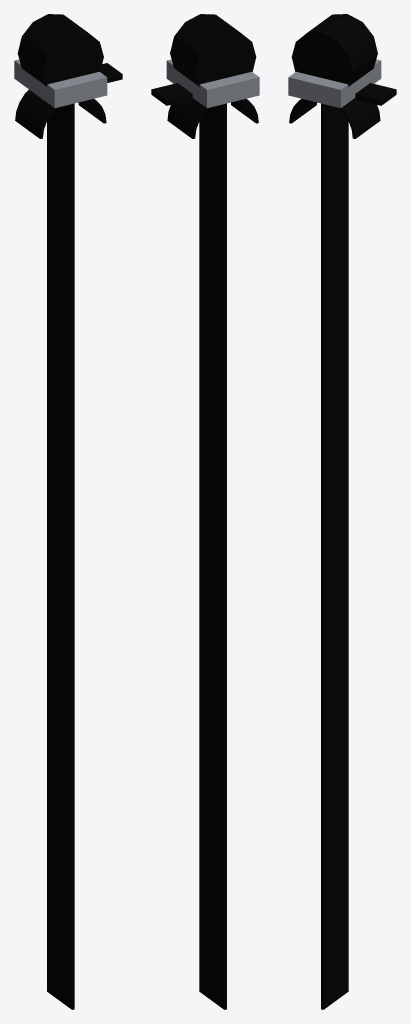
The model's file is PAN_HoldDownStrap.fbx.
The picture shows the model from 3 angles, left to right: view 1: azimuth 30°, elevation 25°; view 2: azimuth 210°, elevation 25°; view 3: azimuth 330°, elevation 25°; orthographic projection.
Parts seen in each view (by area): view 1: HoldDown_Leg, HoldDown_Removed, HoldDown_BuckleBase, HoldDown_Saddle; view 2: HoldDown_Leg, HoldDown_Removed, HoldDown_BuckleBase, HoldDown_Saddle; view 3: HoldDown_Leg, HoldDown_Removed, HoldDown_BuckleBase, HoldDown_Saddle.
Part boxes in pixels (<box>): HoldDown_Leg: <box>47,103,74,1009</box>; HoldDown_Removed: <box>17,14,122,86</box>; HoldDown_BuckleBase: <box>14,59,107,107</box>; HoldDown_Saddle: <box>15,89,106,138</box>; HoldDown_Leg: <box>199,103,226,1009</box>; HoldDown_Removed: <box>151,14,256,105</box>; HoldDown_BuckleBase: <box>166,59,259,108</box>; HoldDown_Saddle: <box>167,98,258,138</box>; HoldDown_Leg: <box>321,103,348,1009</box>; HoldDown_Removed: <box>291,14,396,105</box>; HoldDown_BuckleBase: <box>288,59,381,108</box>; HoldDown_Saddle: <box>289,98,380,138</box>.
Size of the model in its own units: 0.1 by 1.07 by 0.08.
3 materials, 3 textured.
